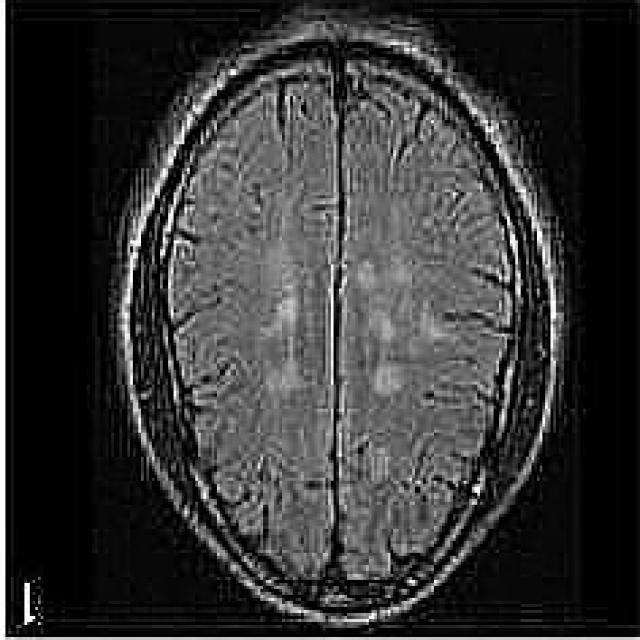notumor: (111, 21, 564, 628)
